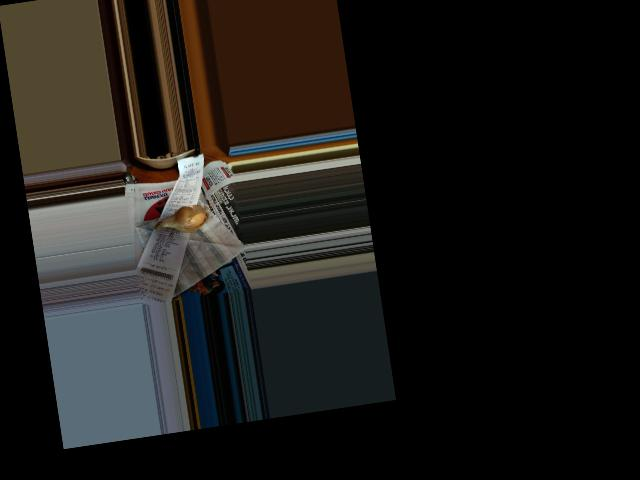onion: (166, 203, 207, 237)
